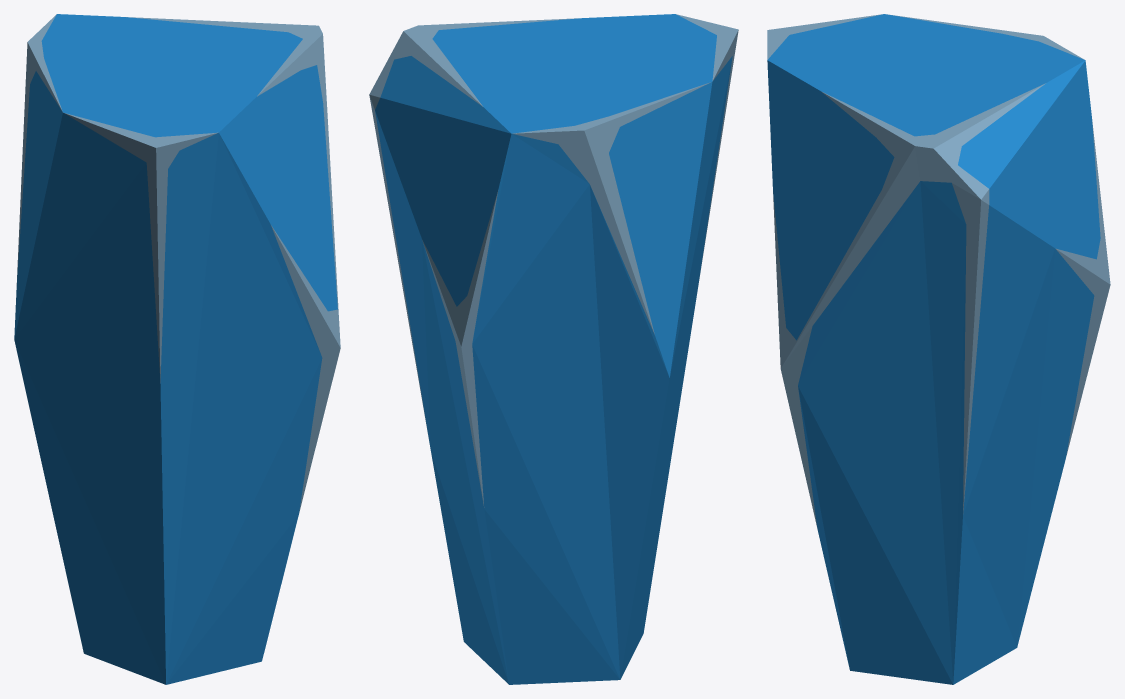
Rendered from Stone_Blue_A_02.FBX.
3 views of the same model, side by side, from view 1: azimuth 30°, elevation 25°; view 2: azimuth 150°, elevation 25°; view 3: azimuth 270°, elevation 25° (orthographic). The views are drawn at different scales.
Parts seen in each view (by area): view 1: Stone_Blue_A_02; view 2: Stone_Blue_A_02; view 3: Stone_Blue_A_02.
Part boxes in pixels (x1=…): Stone_Blue_A_02: x1=14, y1=14, x2=340, y2=684; Stone_Blue_A_02: x1=369, y1=14, x2=738, y2=684; Stone_Blue_A_02: x1=767, y1=14, x2=1110, y2=684.
Bounding box in the file's own units: 0.786 × 1.48 × 0.81.
